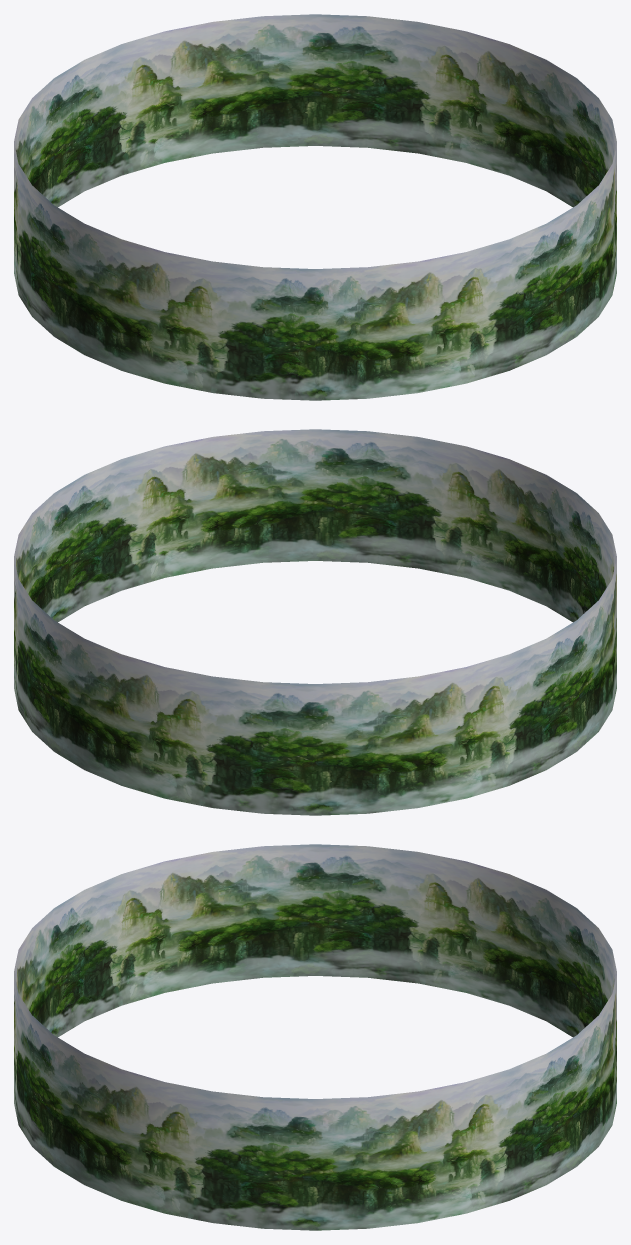
The model's file is s7_3d_sky_001.FBX.
3 renders of one model, top to bottom at view 1: azimuth 30°, elevation 25°; view 2: azimuth 150°, elevation 25°; view 3: azimuth 270°, elevation 25°, orthographic.
Visible parts, largest first — view 1: Cylinder001; view 2: Cylinder001; view 3: Cylinder001.
Part boxes in pixels (x1,y1,x2,y2): Cylinder001: (14,14,616,400); Cylinder001: (14,429,616,815); Cylinder001: (14,844,616,1230).
Size of the model in its own units: 459 by 110 by 459.
1 material, 1 textured.
